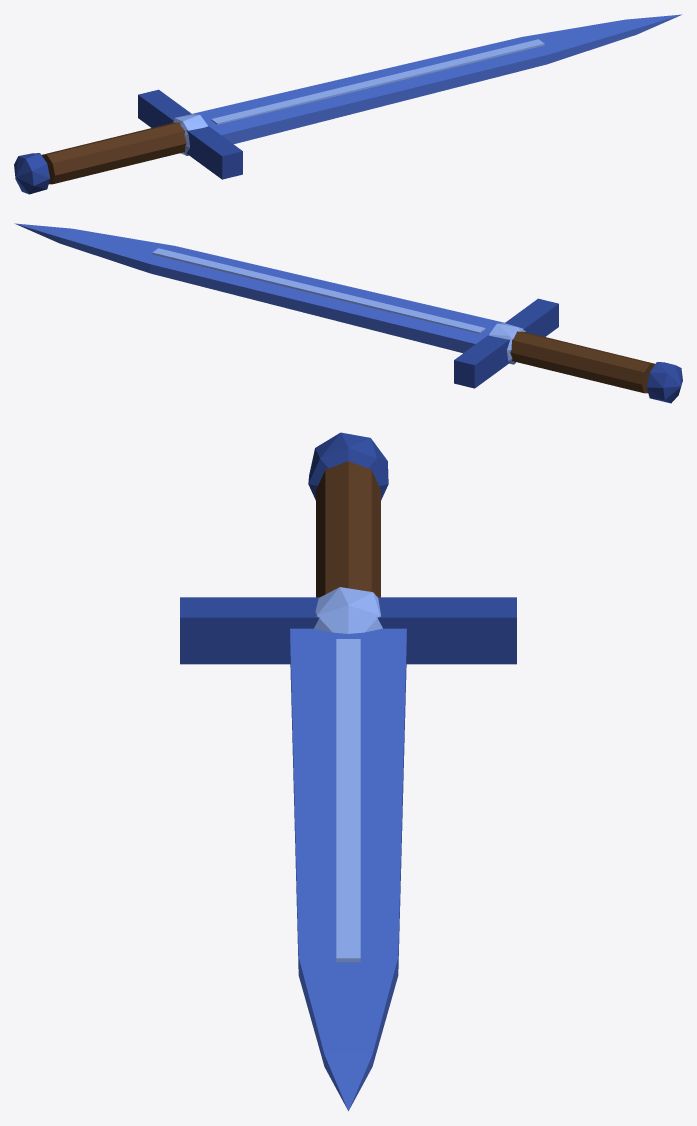
File: drop_mithril_sword.glb
3 renders of one model, top to bottom at view 1: azimuth 30°, elevation 25°; view 2: azimuth 150°, elevation 25°; view 3: azimuth 270°, elevation 25°, orthographic. The views are drawn at different scales.
Visible parts, largest first — view 1: drop_mithril_sword; view 2: drop_mithril_sword; view 3: drop_mithril_sword.
Part boxes in pixels (<box>): drop_mithril_sword: <box>14,14,682,194</box>; drop_mithril_sword: <box>14,223,682,403</box>; drop_mithril_sword: <box>180,432,516,1111</box>.
Bounding box in the file's own units: 0.7176 × 0.0374 × 0.1568.
